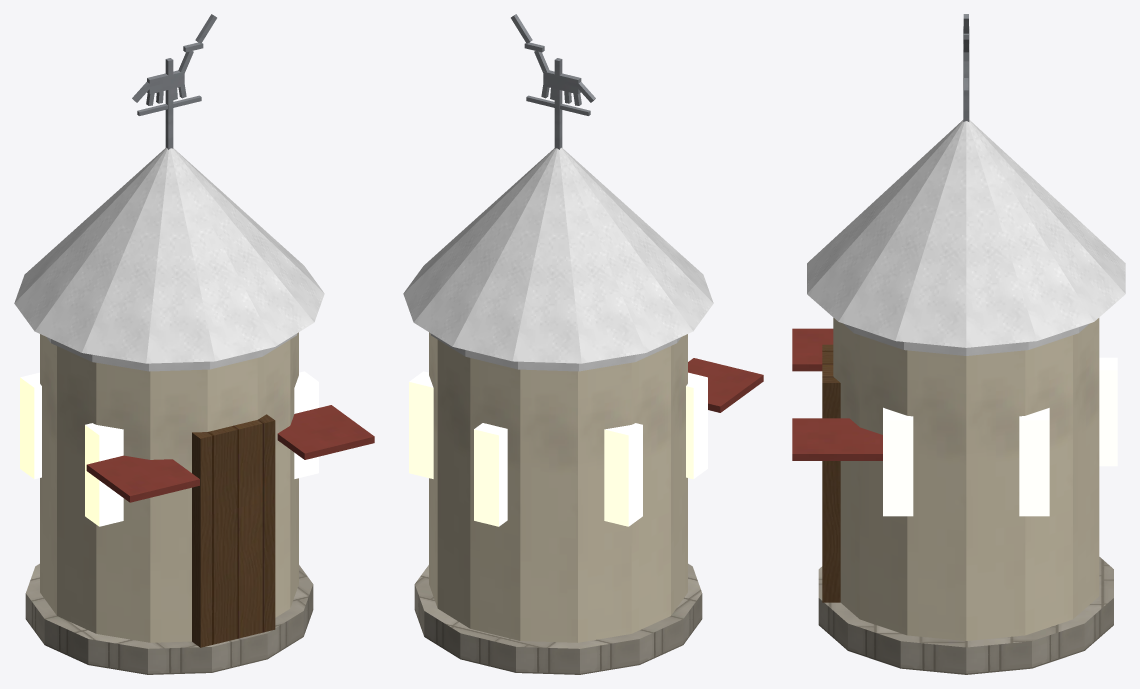
The model's file is protocol.uniswap.glb.
3 views of the same model, side by side, from view 1: azimuth 30°, elevation 25°; view 2: azimuth 150°, elevation 25°; view 3: azimuth 270°, elevation 25° (orthographic). The views are drawn at different scales.
Parts seen in each view (by area): view 1: building.protocol.uniswap; view 2: building.protocol.uniswap; view 3: building.protocol.uniswap.
Boxes of the visible parts, x1,y1,x2,y2 form: building.protocol.uniswap: (14,14,374,674); building.protocol.uniswap: (403,14,763,674); building.protocol.uniswap: (792,14,1125,674).
Bounding box in the file's own units: 2.16 × 4.51 × 2.2.
8 materials, 7 textured.
